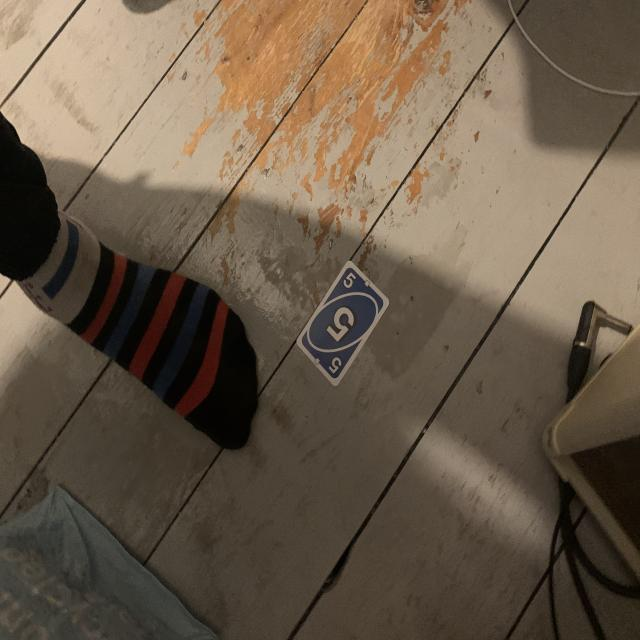lblue-5: (340, 272, 360, 289)
